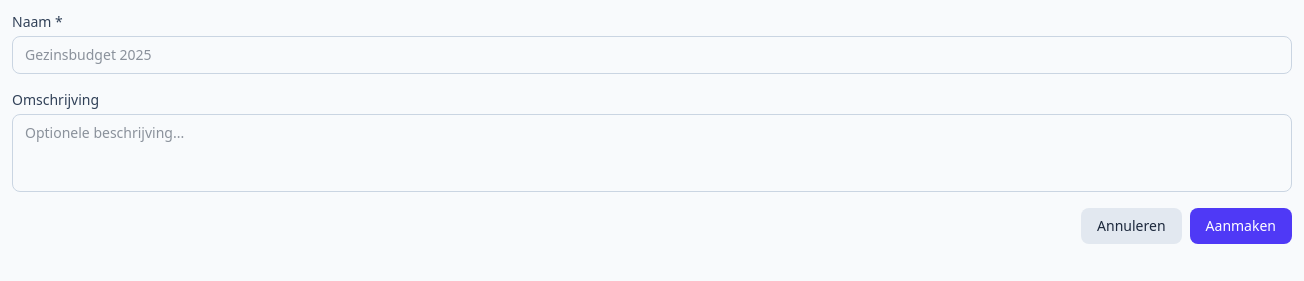
Test: BookForm › toont validatiefout als naam leeg is
Click the button "Aanmaken": (1241, 226) x1=1190 y1=208 x2=1292 y2=244
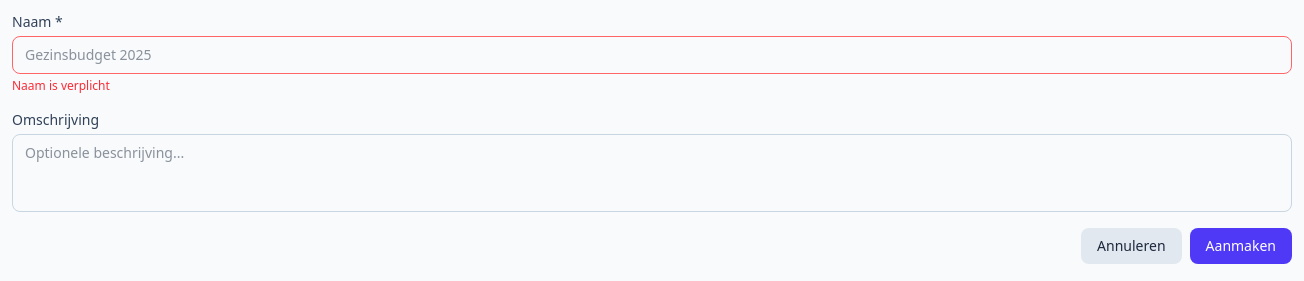
Expected: the text "Naam is verplicht" is shown, x1=12 y1=77 x2=110 y2=94
